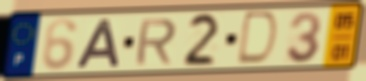2: (182, 11, 223, 69)
3: (286, 9, 325, 65)
6: (40, 17, 79, 73)
A: (74, 17, 123, 71)
D: (233, 10, 281, 68)
R: (132, 17, 179, 67)
